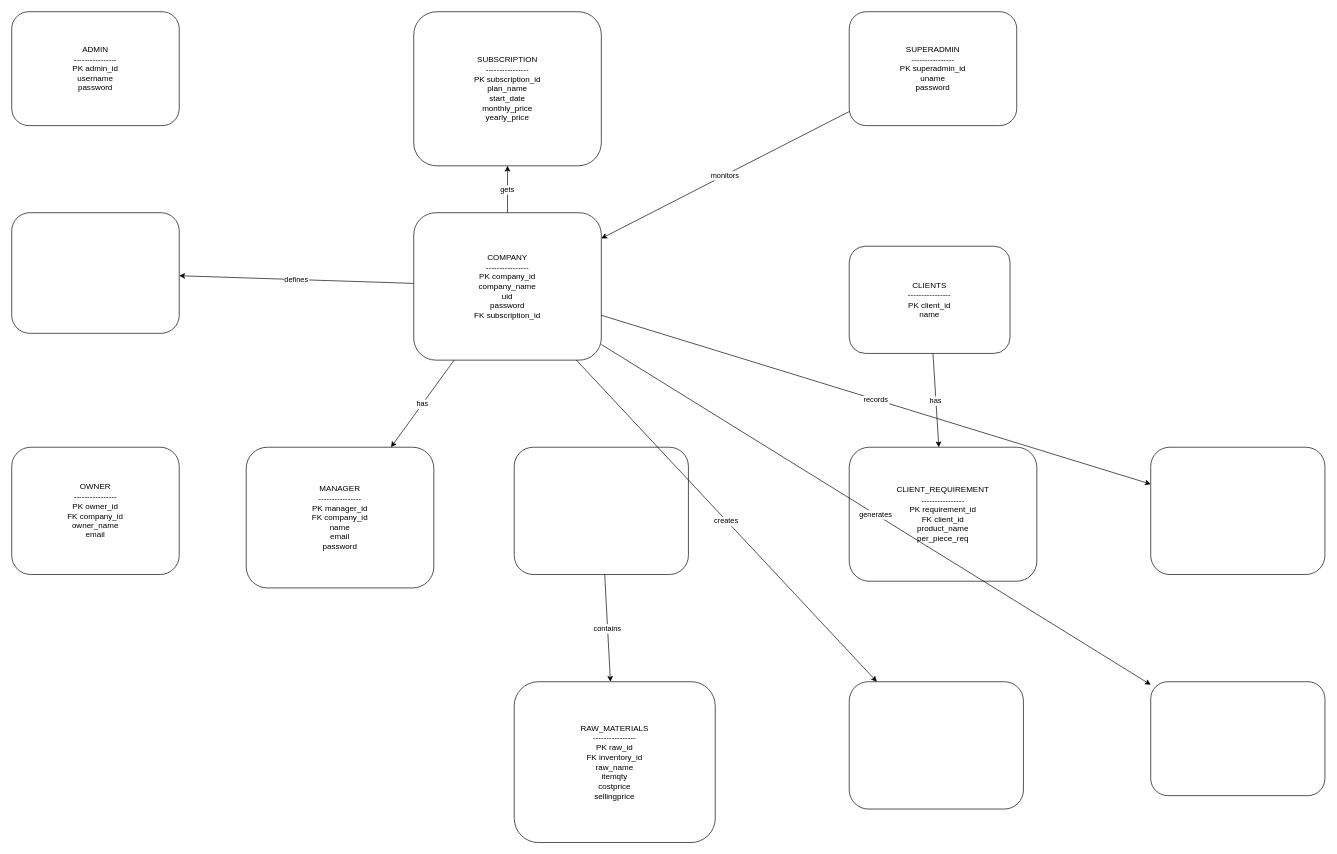
The diagram is 1337 pixels wide and 854 high, and some of its shapes have lost their labels. The shapes that lost their labels are listed below. From the top down, each one's centre as x and y in pixels, then its label:
At pixel 95 272: "ROLE ---------------- PK role_id FK company_id role_name".
At pixel 601 511: "INVENTORY ---------------- PK inventory_id FK company_id field materials".
At pixel 1237 511: "EXPENSES ---------------- PK expense_id FK company_id expense_name money".
At pixel 936 745: "ORDER ---------------- PK order_id FK company_id order_date order_status".
At pixel 1237 738: "BALANCESHEET ---------------- PK balance_id FK company_id date".
